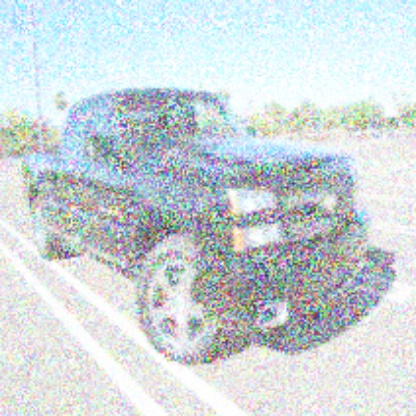Vehicle: (21, 80, 376, 366)
